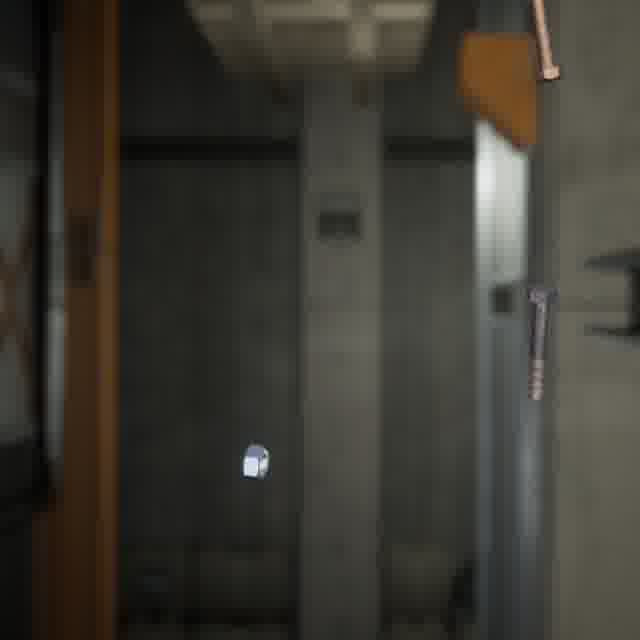bolt: (522, 280, 562, 404), (525, 0, 568, 87)
nut: (238, 439, 272, 485)
